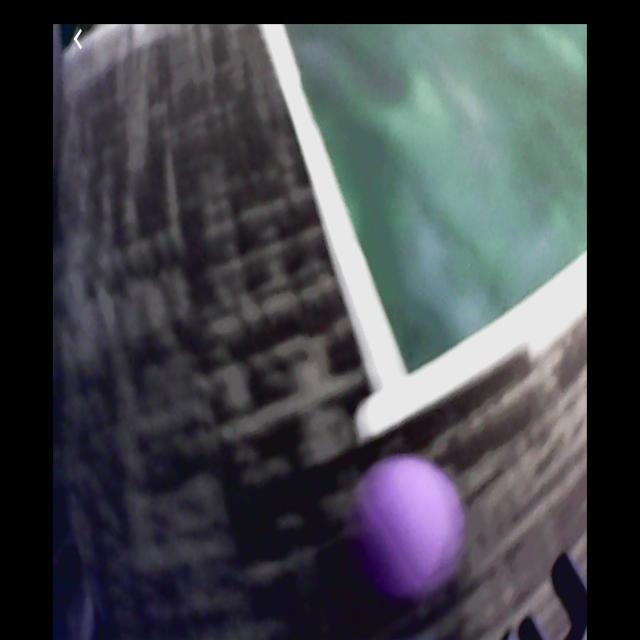ball: (353, 458, 465, 596)
